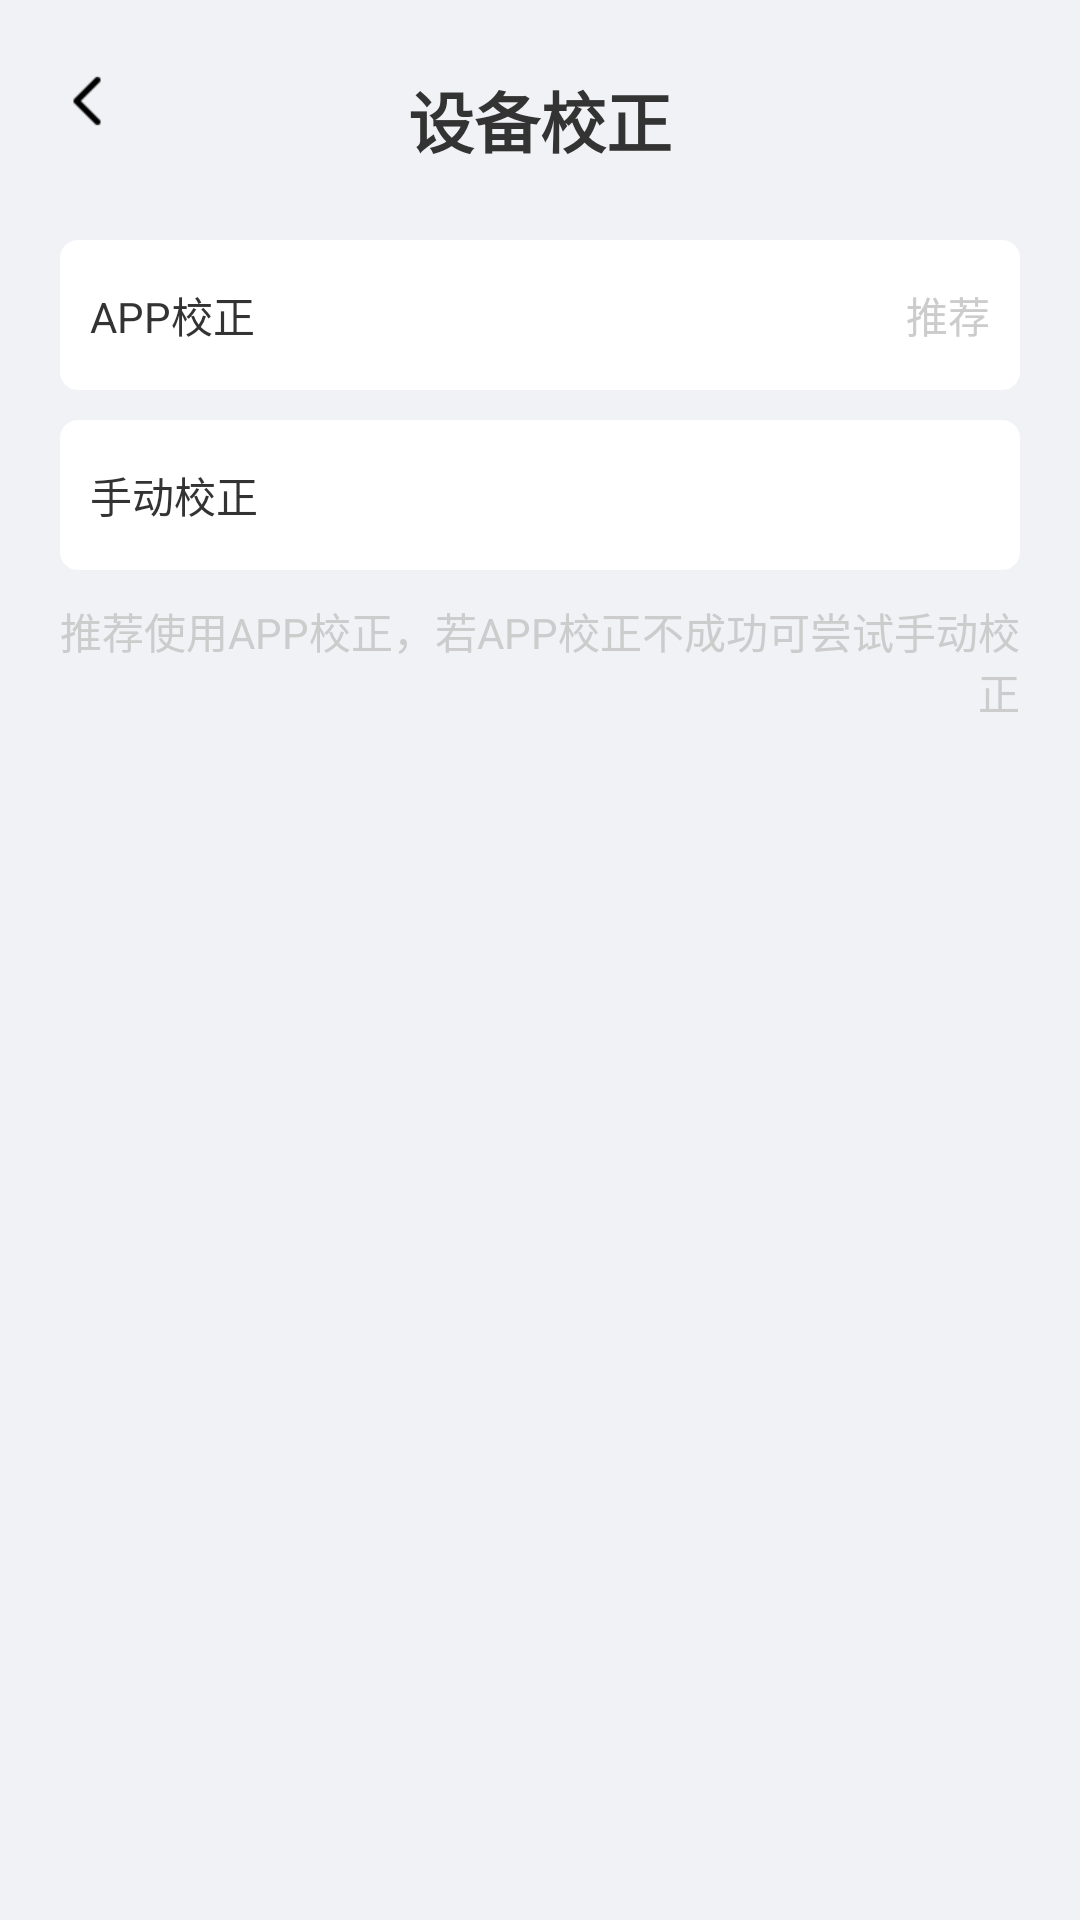

Where to tap for icons on this 1080×1920 app screen, as point (x, y):
back: point (87, 101)
